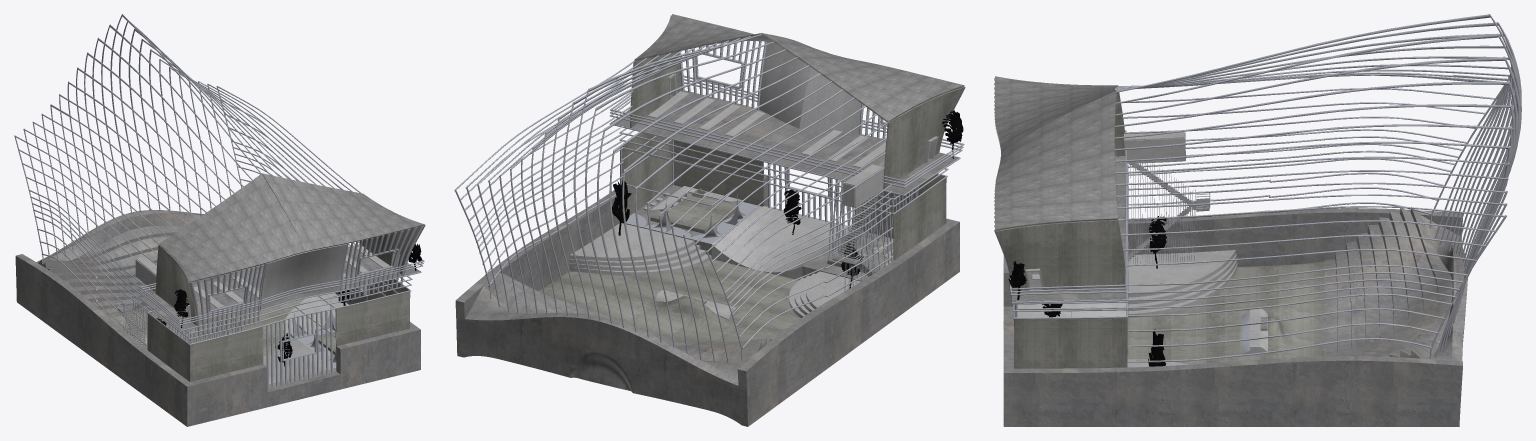
The picture shows the model from 3 angles, left to right: view 1: azimuth 30°, elevation 25°; view 2: azimuth 150°, elevation 25°; view 3: azimuth 270°, elevation 25°; orthographic projection. The views are drawn at different scales.
Visible parts, largest first — view 1: TIATRALE20223_2, Merged Objects 1, Merged Objects 2, Merged Objects; view 2: TIATRALE20223_2, Merged Objects 1, Merged Objects 2, Merged Objects; view 3: TIATRALE20223_2, Merged Objects 1, Merged Objects 2, Merged Objects.
Part boxes in pixels (x1=…): TIATRALE20223_2: x1=15, y1=173, x2=424, y2=426; Merged Objects 1: x1=14, y1=14, x2=424, y2=388; Merged Objects 2: x1=105, y1=225, x2=425, y2=381; Merged Objects: x1=156, y1=244, x2=421, y2=366; TIATRALE20223_2: x1=455, y1=14, x2=964, y2=426; Merged Objects 1: x1=454, y1=33, x2=964, y2=362; Merged Objects 2: x1=538, y1=15, x2=965, y2=344; Merged Objects: x1=612, y1=110, x2=963, y2=288; TIATRALE20223_2: x1=994, y1=76, x2=1467, y2=426; Merged Objects 1: x1=994, y1=14, x2=1521, y2=366; Merged Objects 2: x1=995, y1=92, x2=1324, y2=368; Merged Objects: x1=1008, y1=216, x2=1166, y2=366.
Size of the model in its own units: 27.03 by 26.33 by 37.43.
6 materials, 4 textured.
